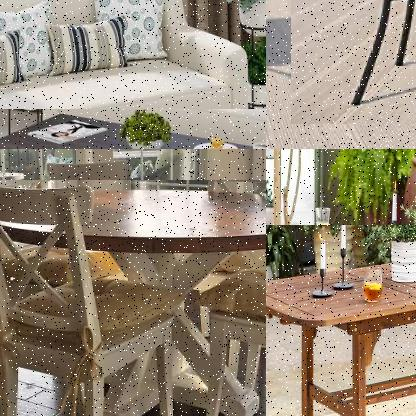table: (0, 180, 265, 415), (266, 225, 415, 415), (290, 0, 415, 126), (0, 109, 265, 148)
